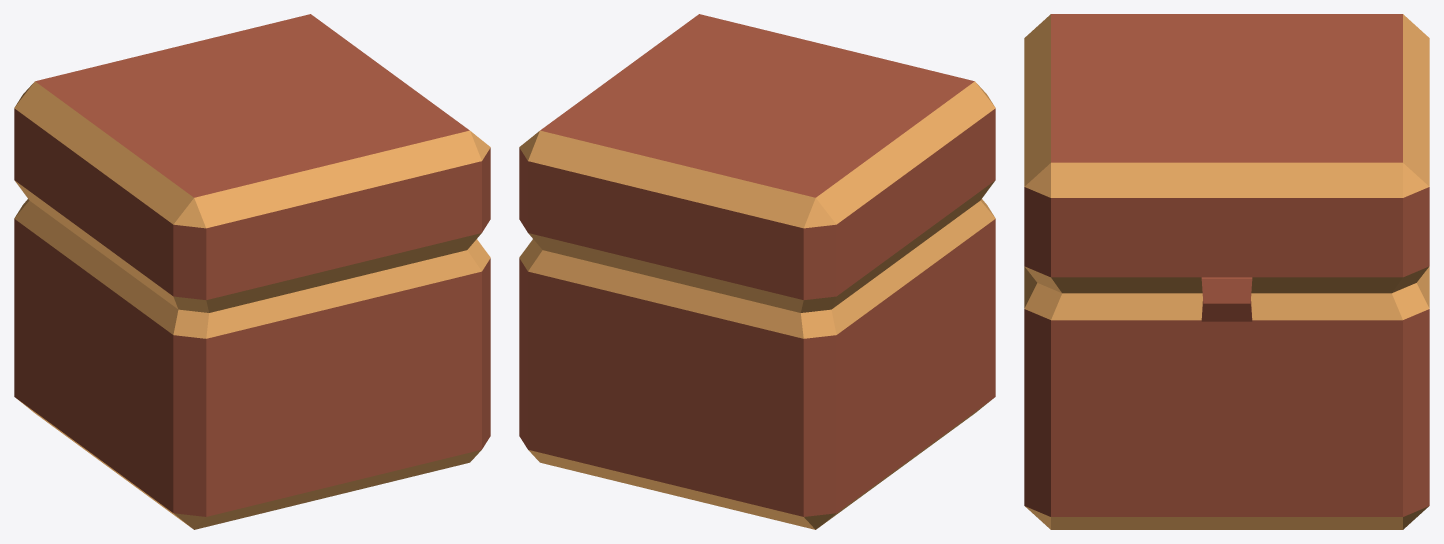
The model's file is wooden chest.glb.
3 renders of one model, left to right at view 1: azimuth 30°, elevation 25°; view 2: azimuth 150°, elevation 25°; view 3: azimuth 270°, elevation 25°, orthographic. The views are drawn at different scales.
Visible parts, largest first — view 1: Cube; view 2: Cube; view 3: Cube.
Part boxes in pixels (x1,y1,x2,y2): Cube: [14, 14, 490, 529]; Cube: [519, 14, 995, 529]; Cube: [1024, 14, 1429, 529].
Size of the model in its own units: 1.02 by 0.9955 by 0.9955.
